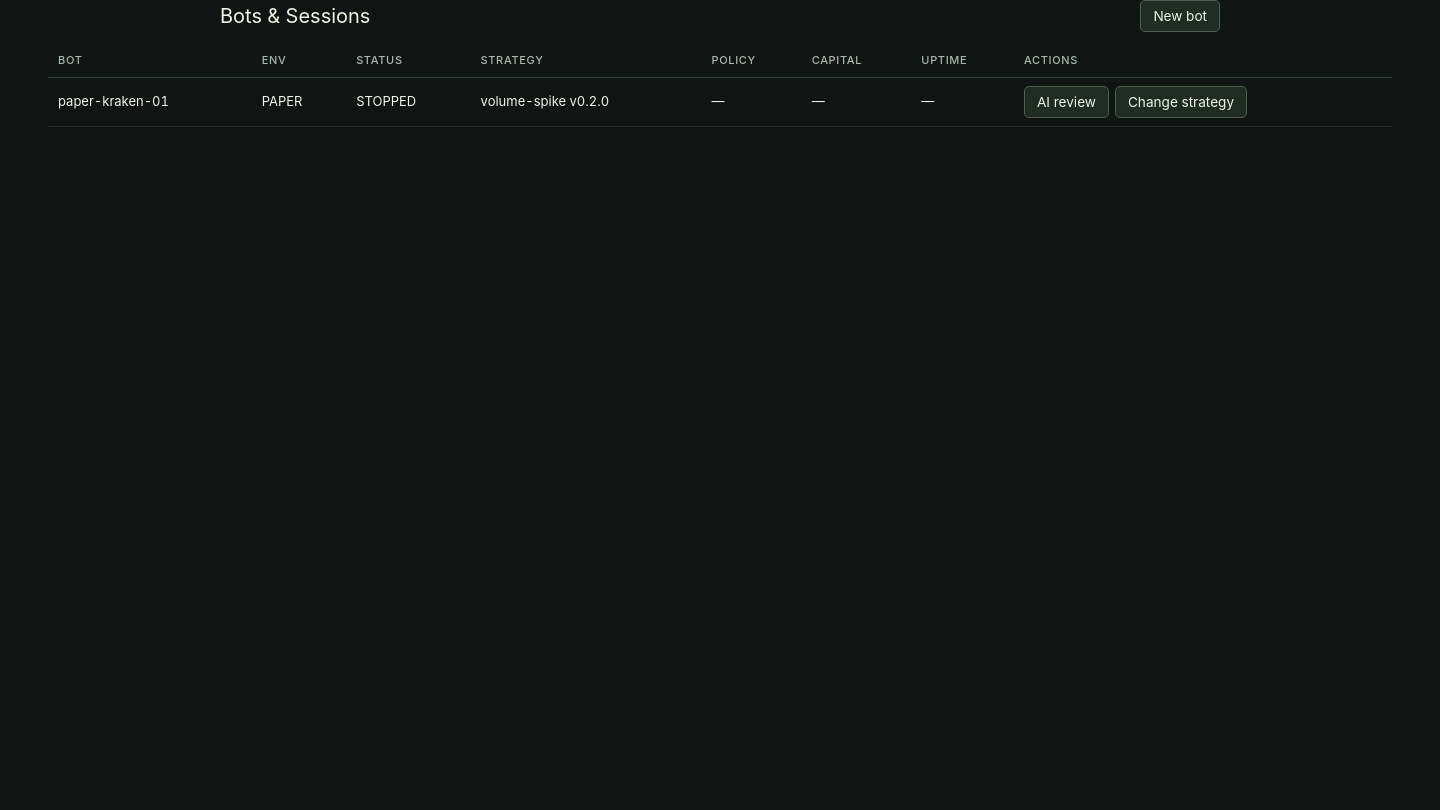
Bots « Change strategy » › binds a stopped bot to a published version with If-Match
Click the button "Change strategy" at (1181, 102), box [1115,86,1247,118]
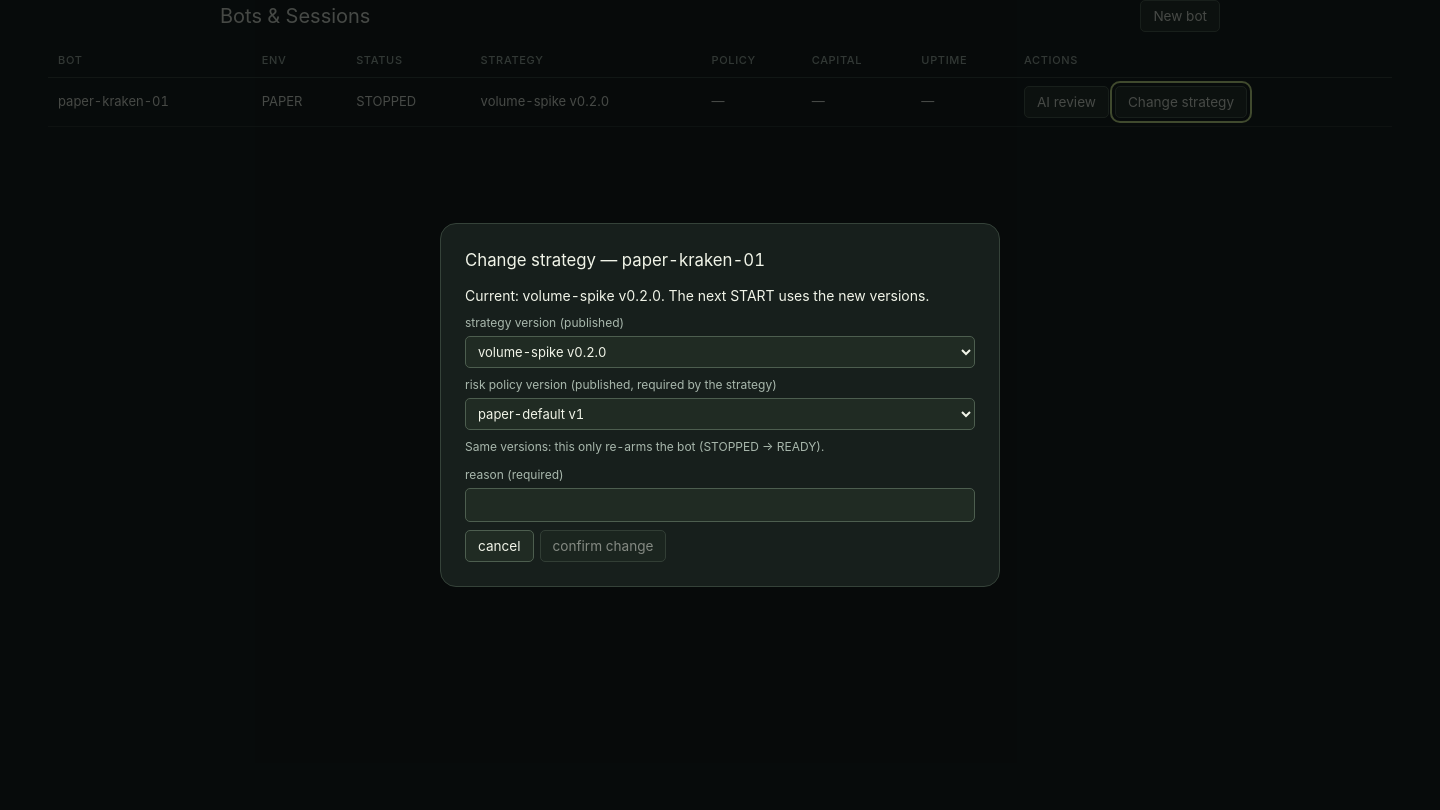
Select "volume-spike v0.3.0" in the dropdown labelled "strategy version" at (720, 352), box [465,336,975,368]
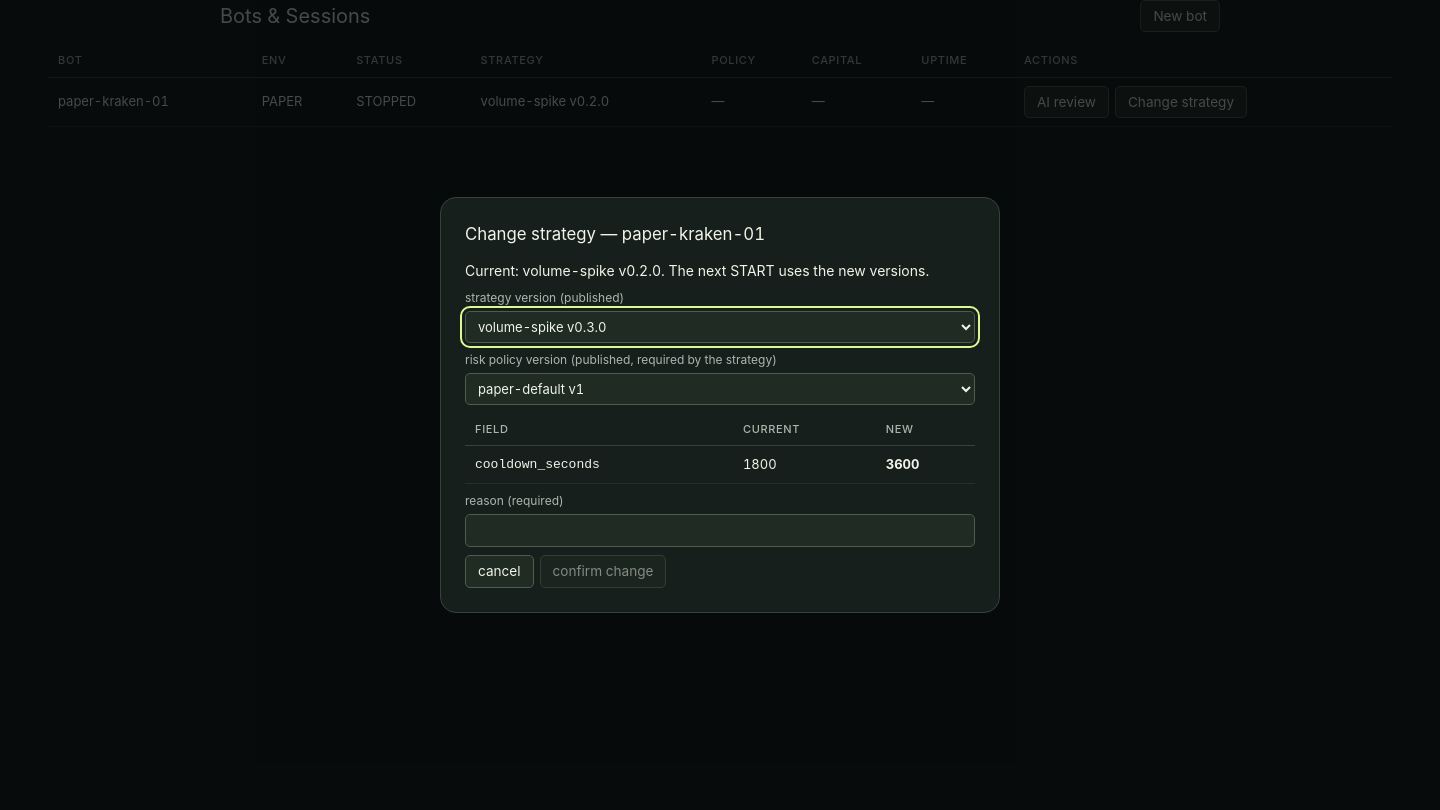
Expected: the table with test id "bind-diff" shows "cooldown_seconds", [475,457,600,472]
Type "v0.3.0" into the field labelled "reason (required)" at (720, 530), box [465,514,975,547]
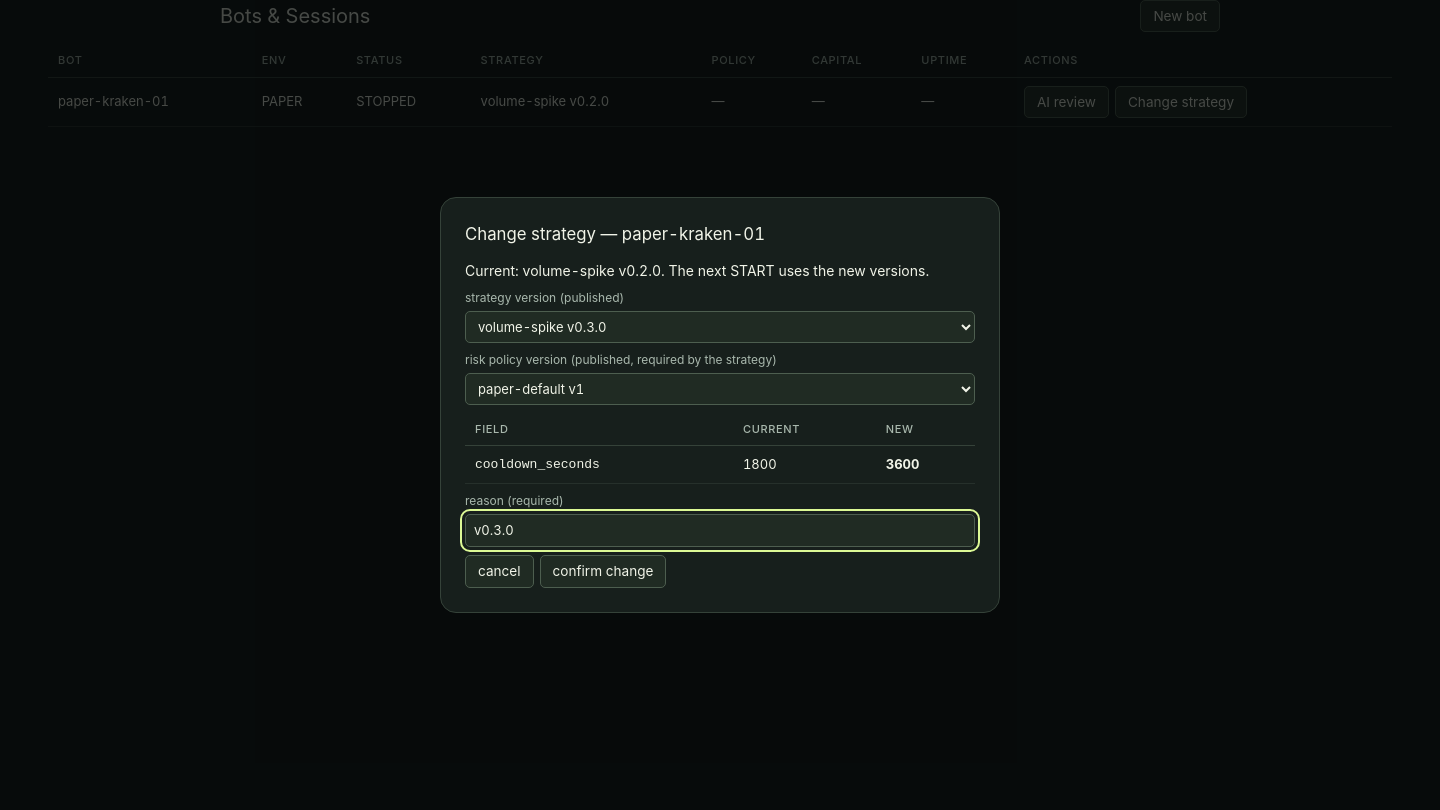
Click the button "confirm change" at (603, 571), box [540,555,666,588]
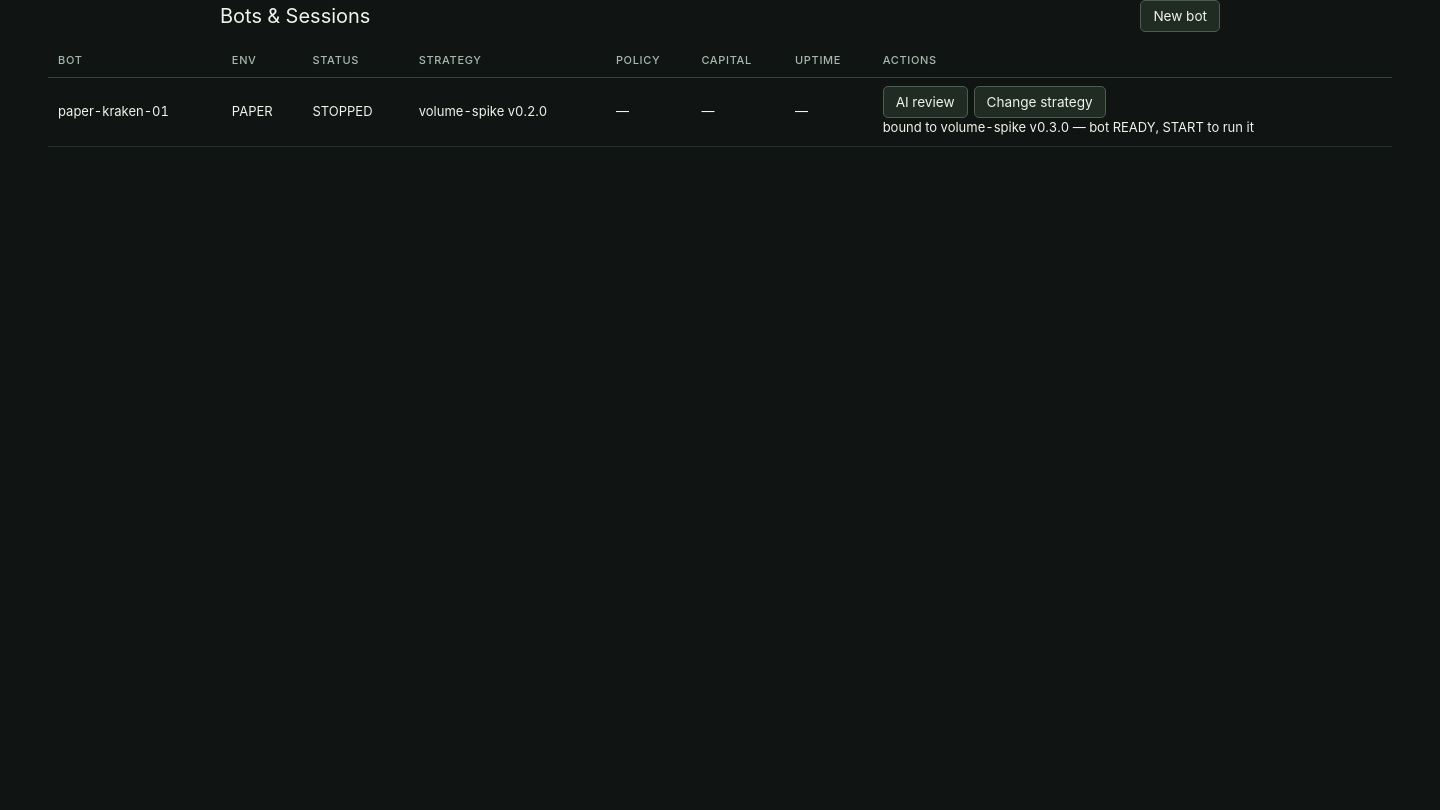
Expected: the text "bound to volume-spike v0.3.0 — bot READY, START to run it" is shown, [883,119,1254,135]
